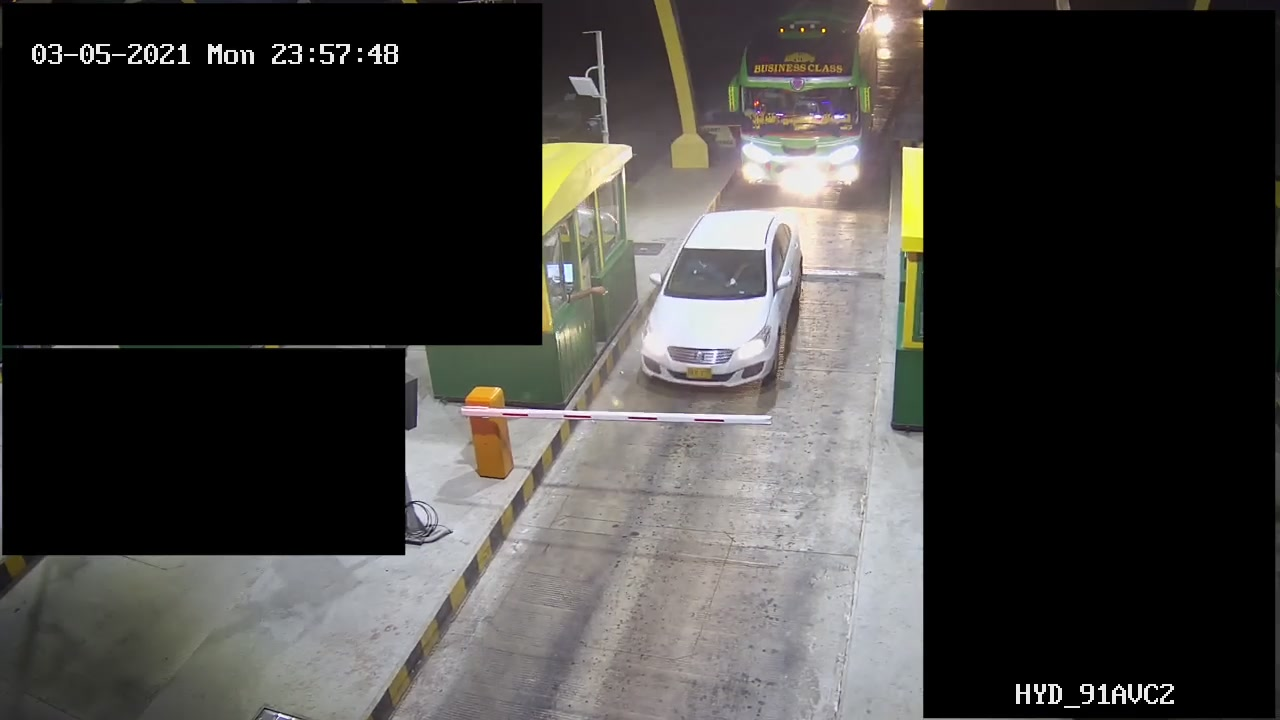F1: (627, 213, 806, 395)
